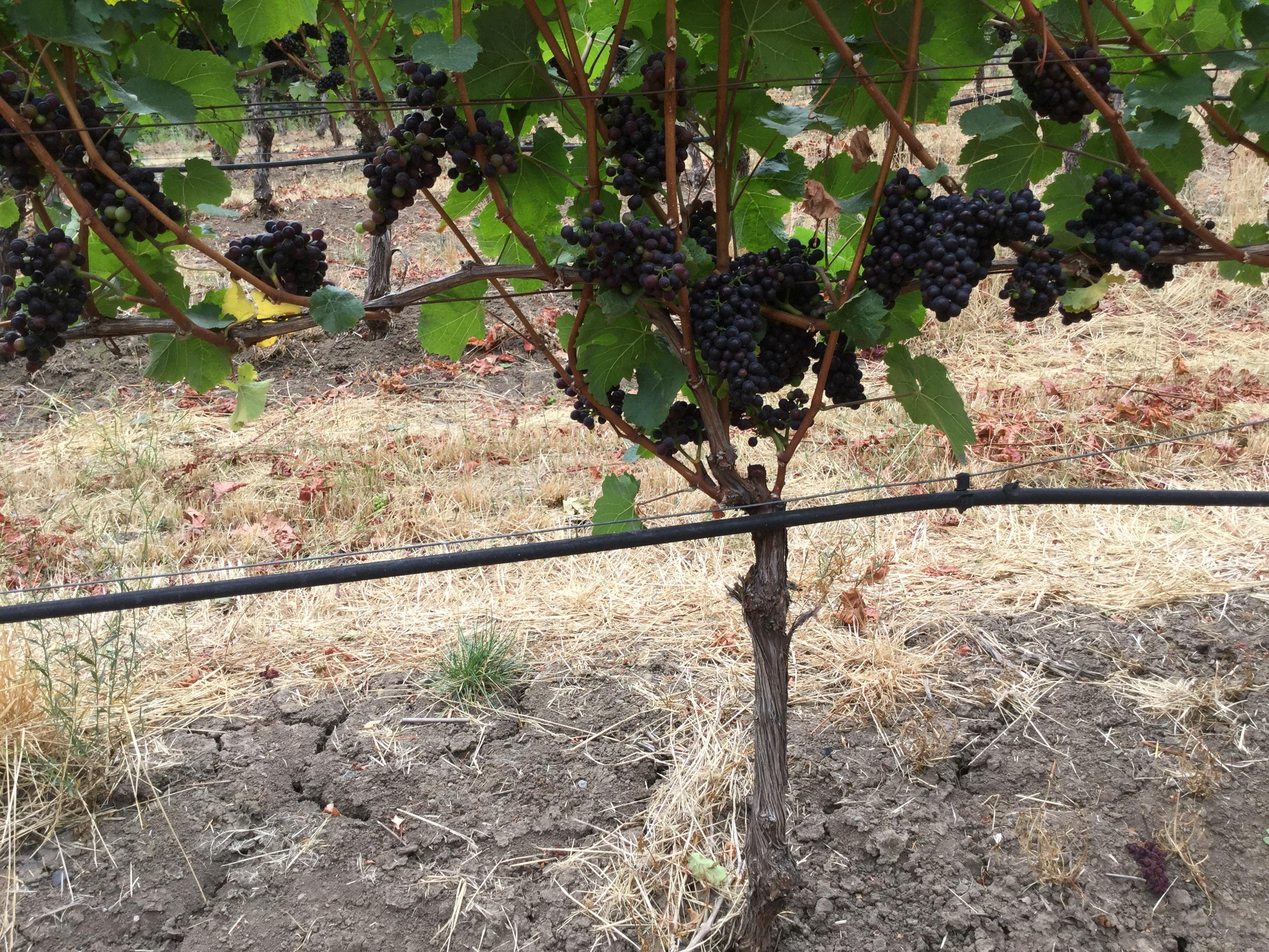leaf: (128, 32, 244, 156), (883, 344, 975, 461), (958, 100, 1060, 192), (490, 127, 568, 236), (467, 5, 555, 101), (730, 0, 824, 86), (576, 309, 659, 398), (416, 280, 487, 360), (4, 0, 110, 53), (1124, 56, 1211, 117), (144, 333, 232, 393), (622, 350, 687, 429), (101, 72, 196, 121), (1142, 121, 1203, 192), (223, 0, 316, 46), (1042, 169, 1092, 249), (732, 184, 790, 250), (161, 156, 232, 208), (826, 289, 888, 347), (224, 362, 272, 431), (411, 32, 481, 72), (751, 150, 808, 199), (756, 105, 842, 136), (309, 286, 364, 334), (1060, 273, 1126, 312), (879, 291, 926, 343), (960, 103, 1023, 141), (1231, 71, 1268, 134), (1127, 110, 1182, 149), (184, 289, 236, 329), (594, 287, 642, 319), (681, 237, 714, 280), (679, 0, 720, 34), (1217, 260, 1266, 286), (392, 0, 447, 21), (1241, 4, 1268, 44), (918, 161, 949, 186), (1233, 223, 1268, 244), (0, 196, 21, 228), (616, 206, 619, 214), (482, 189, 484, 191), (979, 107, 986, 107), (1266, 8, 1268, 8)
